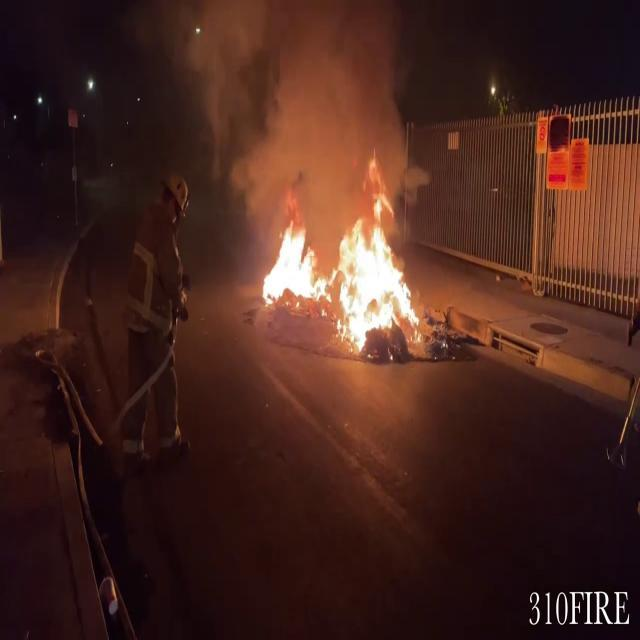Fire: (252, 165, 424, 355)
Smoke: (175, 0, 425, 198)
